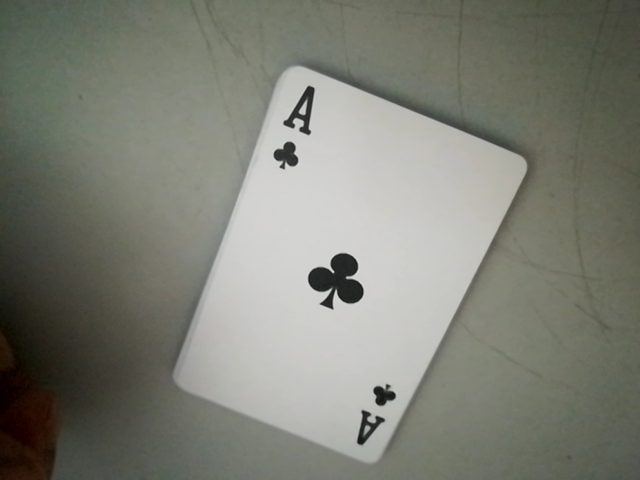mh a: (259, 73, 324, 184), (351, 377, 405, 460)
